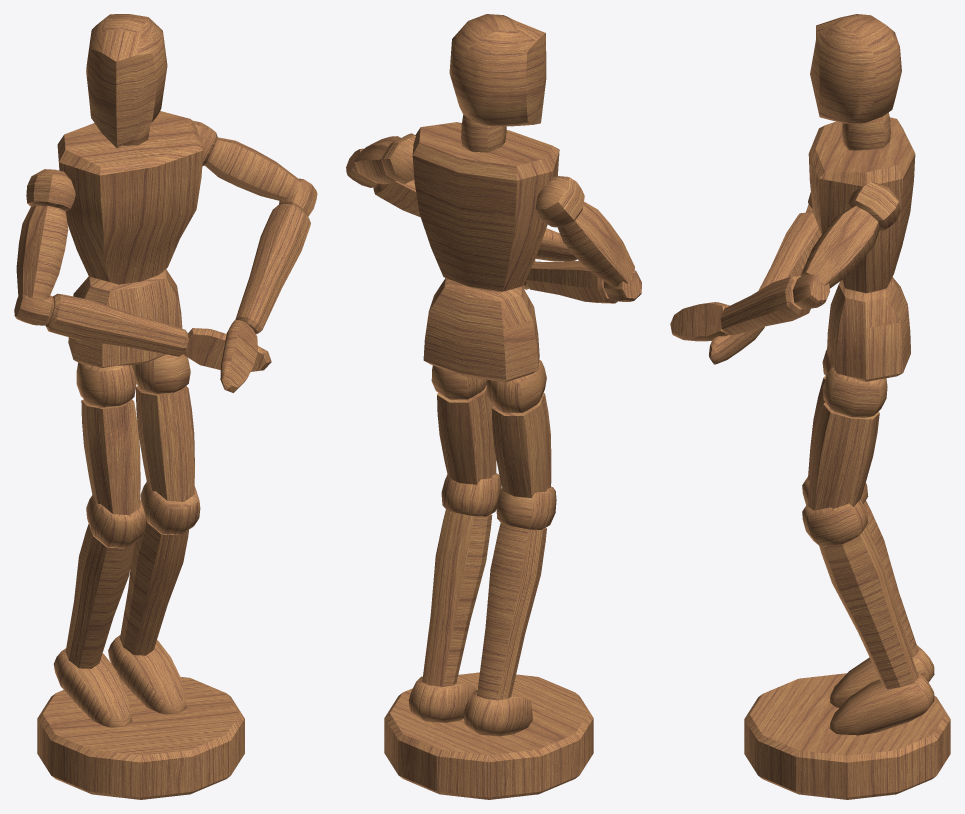
File: SM_mannequin_03.fbx
3 renders of one model, left to right at view 1: azimuth 30°, elevation 25°; view 2: azimuth 150°, elevation 25°; view 3: azimuth 270°, elevation 25°, orthographic.
Visible parts, largest first — view 1: mannequin04; view 2: mannequin04; view 3: mannequin04.
Part boxes in pixels (x1,y1,x2,y2): mannequin04: (14,14,317,799); mannequin04: (346,14,641,799); mannequin04: (670,14,950,799).
Bounding box in the file's own units: 6.96 × 16.66 × 5.76.
Materials: 1 (1 with a texture image).
